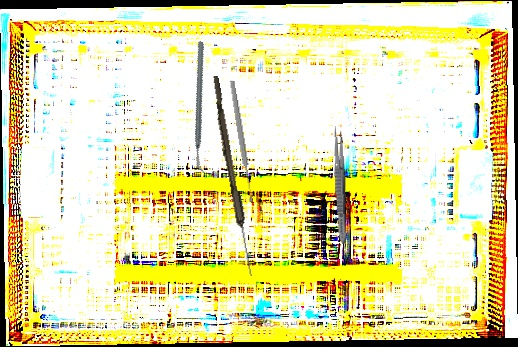Chopper: (147, 40, 256, 175)
Dressing Forceps: (330, 125, 350, 245)
Surgical Spoon: (208, 75, 257, 277), (228, 79, 255, 204)
